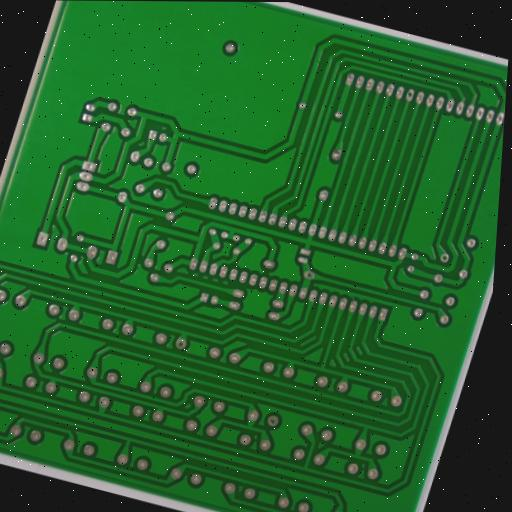missing_hole: (173, 336, 190, 353), (437, 250, 453, 265), (403, 88, 417, 103), (266, 414, 280, 429), (301, 268, 317, 281)
